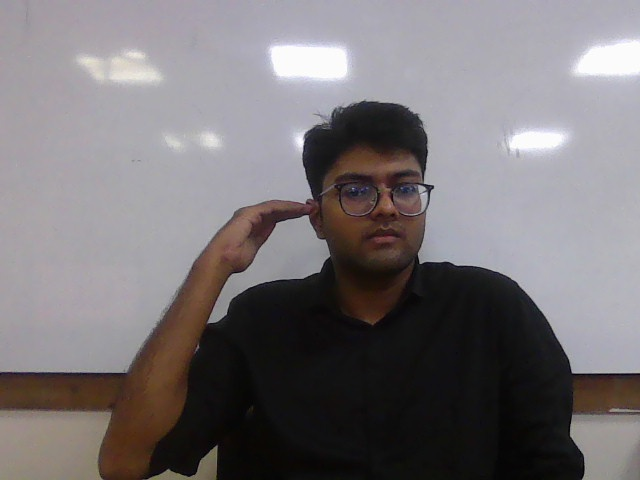Prottibondhi: (213, 198, 319, 276)
